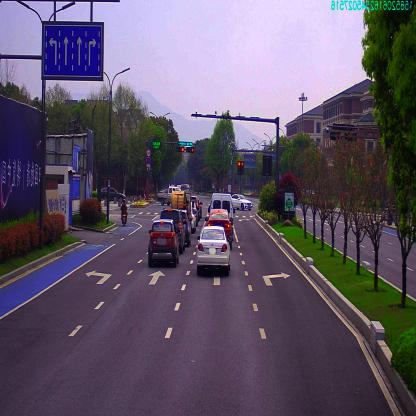traffic-light: (188, 146, 196, 154), (176, 145, 184, 152), (178, 141, 193, 144)
